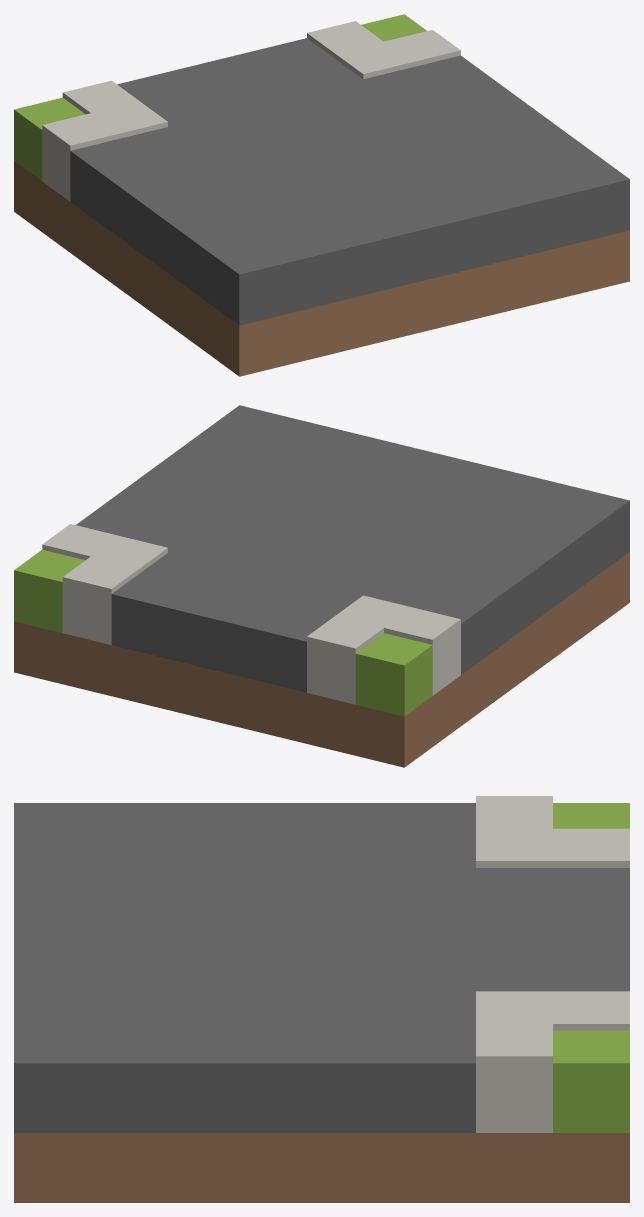
File: lot-exit.obj
3 renders of one model, top to bottom at view 1: azimuth 30°, elevation 25°; view 2: azimuth 150°, elevation 25°; view 3: azimuth 270°, elevation 25°, orthographic. The views are drawn at different scales.
Visible parts, largest first — view 1: lot-exit_Cube.015; view 2: lot-exit_Cube.015; view 3: lot-exit_Cube.015.
Part boxes in pixels (x1,y1,x2,y2): lot-exit_Cube.015: [14, 14, 629, 376]; lot-exit_Cube.015: [14, 405, 629, 767]; lot-exit_Cube.015: [14, 796, 629, 1202].
Size of the model in its own units: 8 by 2.1 by 8.
Materials: 1 (1 with a texture image).
